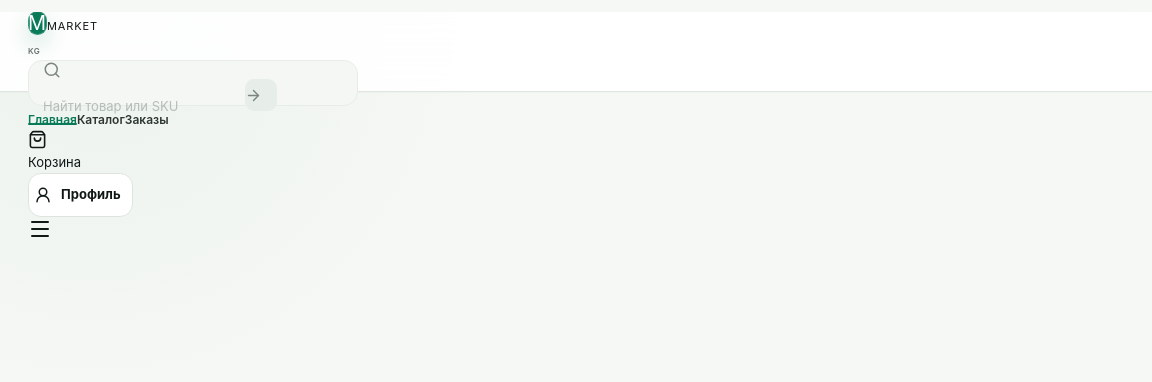
Test case: Header authentication discoverability › replaces guest auth CTAs for an authenticated SHOP
Click the button "Профиль": (80, 195) [28, 173, 133, 217]
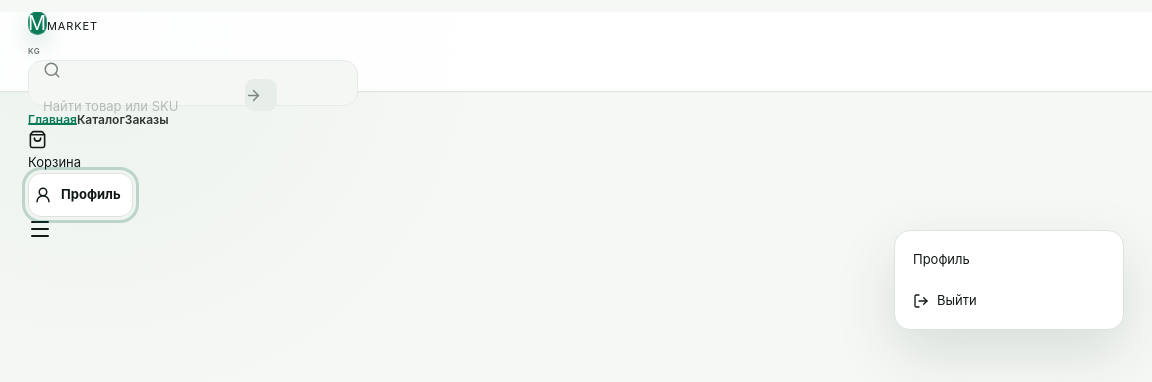
Result: the menu item "Выйти" is shown at [903, 280, 1115, 321]
